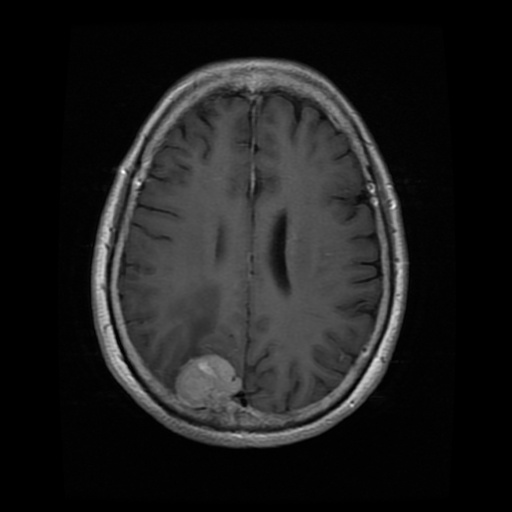meningioma: (175, 353, 241, 408)
